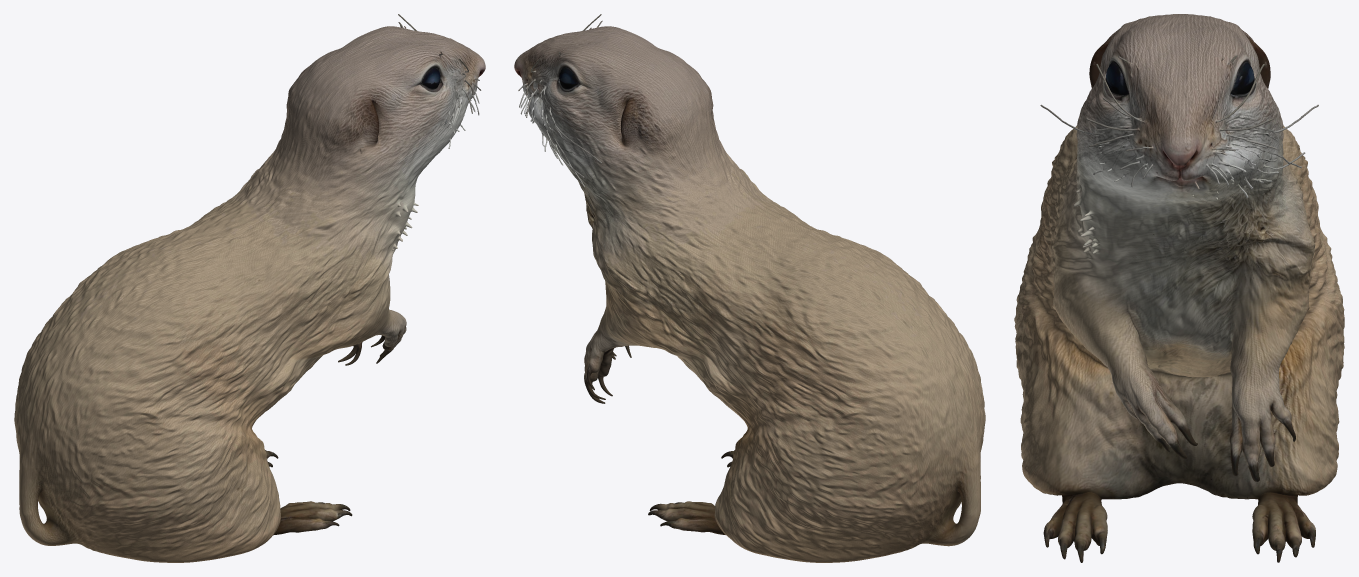
Rendered from european-ground-squirrel.glb.
3 views of the same model, side by side, from view 1: azimuth 30°, elevation 25°; view 2: azimuth 150°, elevation 25°; view 3: azimuth 270°, elevation 25° (orthographic). The views are drawn at different scales.
Parts seen in each view (by area): view 1: tripo_node_6a0f36e8-6055-4eb0-a95f-3c5e1f7b12e6; view 2: tripo_node_6a0f36e8-6055-4eb0-a95f-3c5e1f7b12e6; view 3: tripo_node_6a0f36e8-6055-4eb0-a95f-3c5e1f7b12e6.
Part boxes in pixels (x1,y1,x2,y2): tripo_node_6a0f36e8-6055-4eb0-a95f-3c5e1f7b12e6: (14,14,485,562); tripo_node_6a0f36e8-6055-4eb0-a95f-3c5e1f7b12e6: (514,14,985,562); tripo_node_6a0f36e8-6055-4eb0-a95f-3c5e1f7b12e6: (1014,14,1344,562).
Bounding box in the file's own units: 1 × 0.8854 × 0.4511.
Materials: 1 (1 with a texture image).
